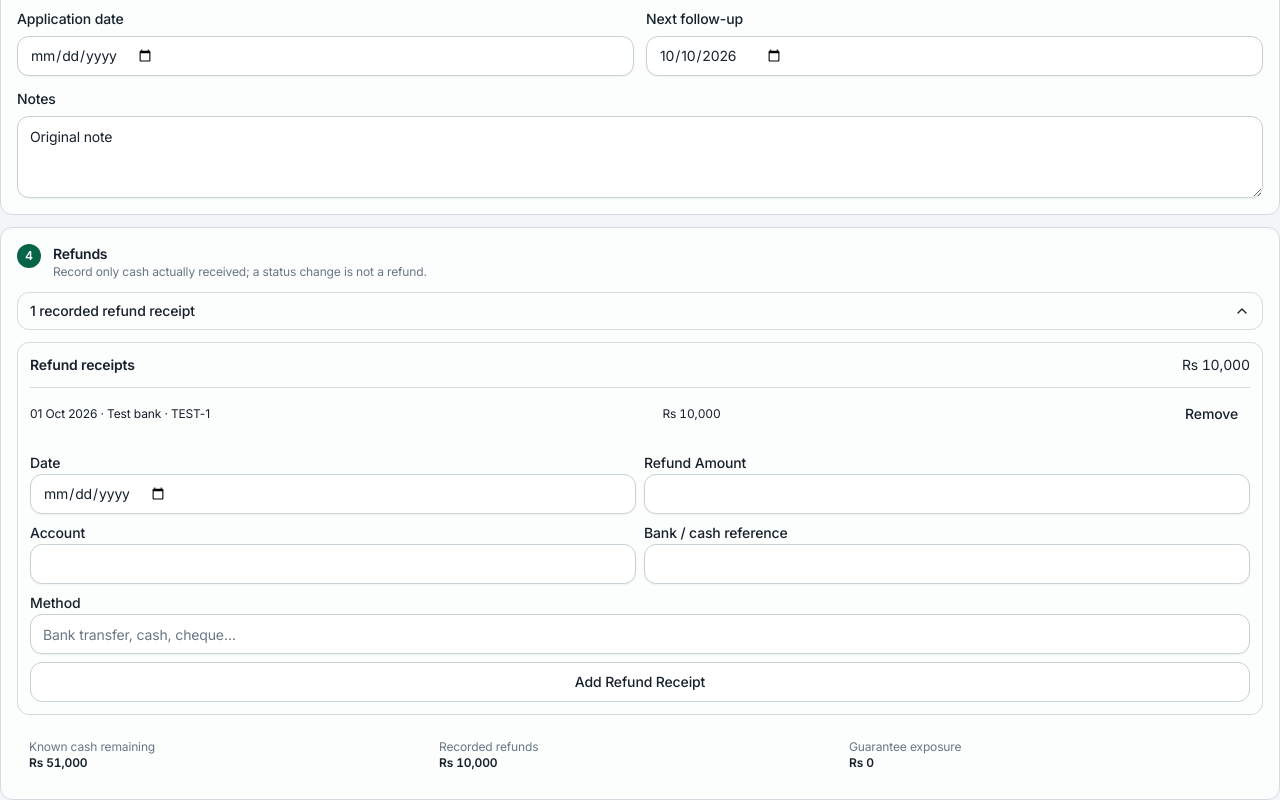
Test: pay order editor with disposable records › keeps populated edit fields available and only a receipt reduces remaining cash
(page scrolled)
Expected: the text box labelled "Notes" holds "Original note", [17,116,1263,198]
Expected: the text "1 recorded refund receipt" is shown, [30,301,195,321]
In the date field with id "refund-receipts-date": {"x": 333, "y": 494} [30,474,636,514], type "2026-10-02"
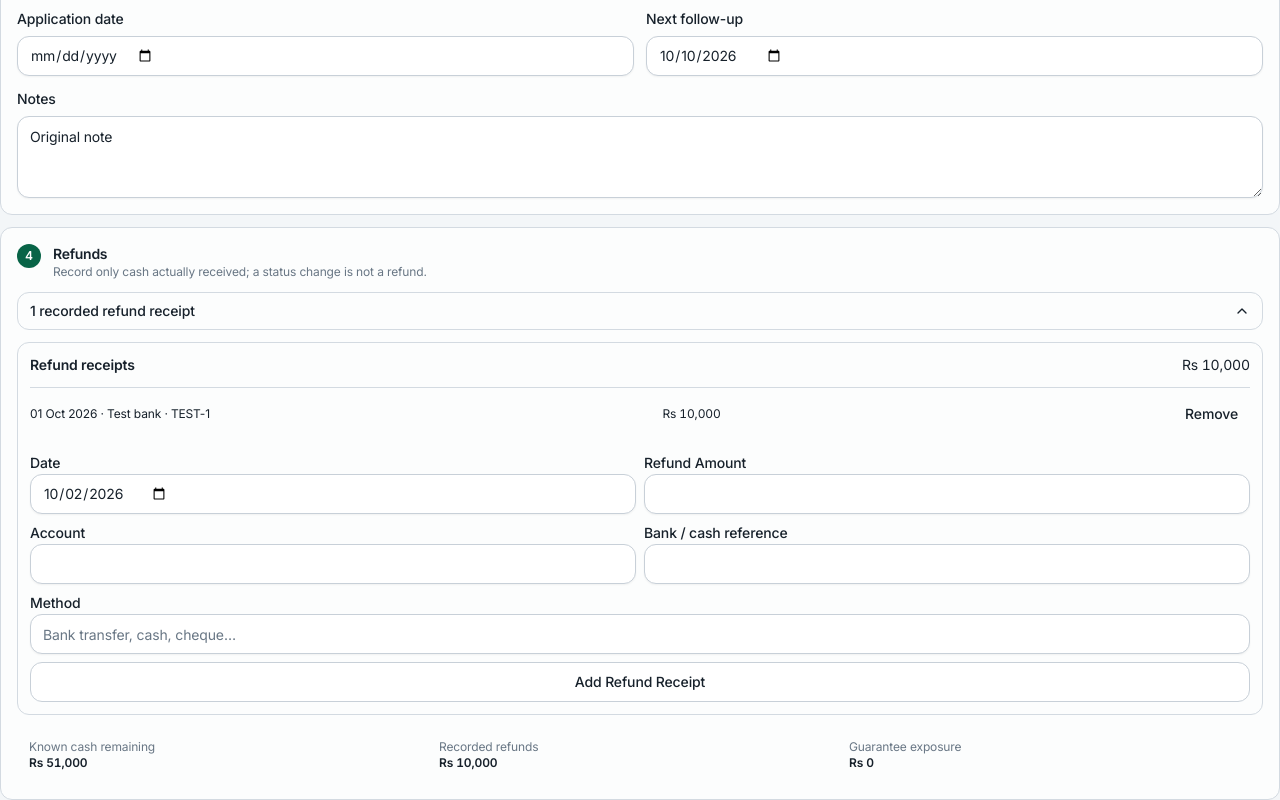
In the number field with id "refund-receipts-amount": {"x": 947, "y": 494} [644,474,1250,514], type "5000"
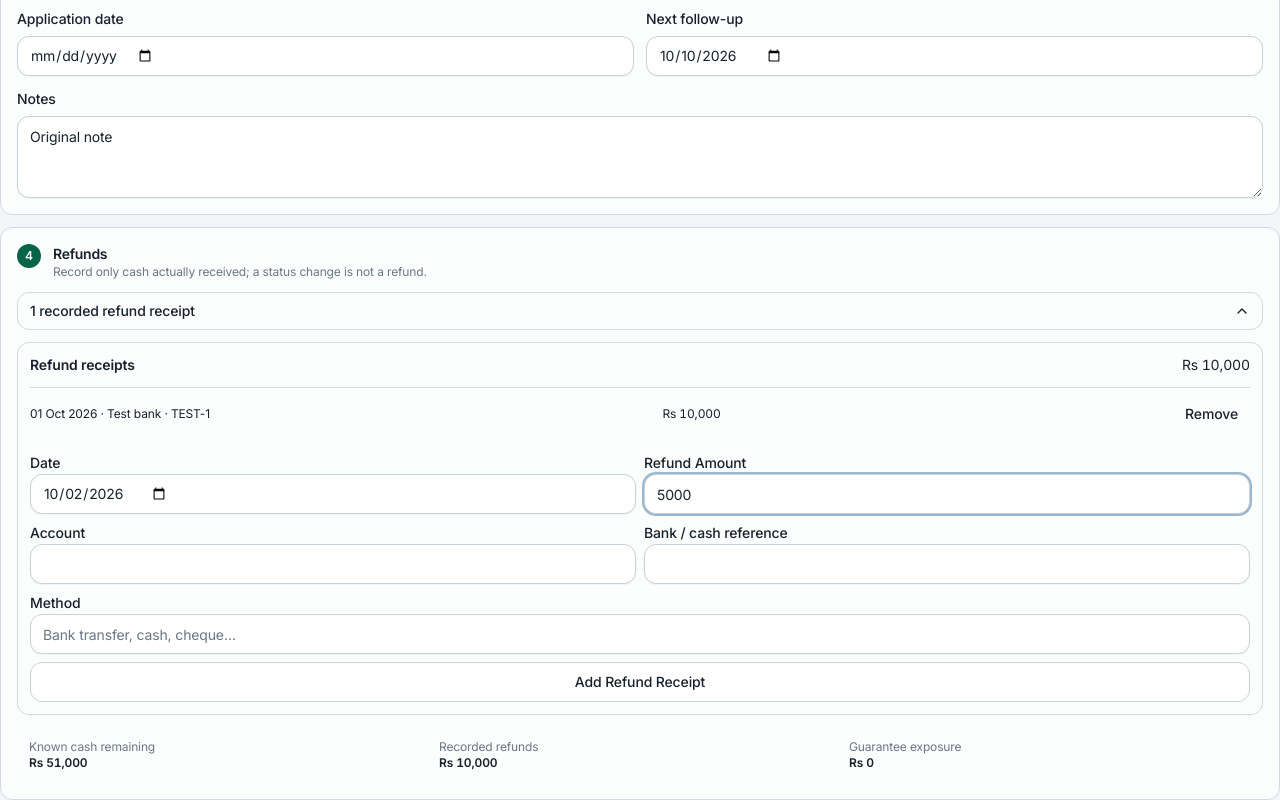
In the field with id "refund-receipts-account": {"x": 333, "y": 564} [30,544,636,584], type "Test bank"
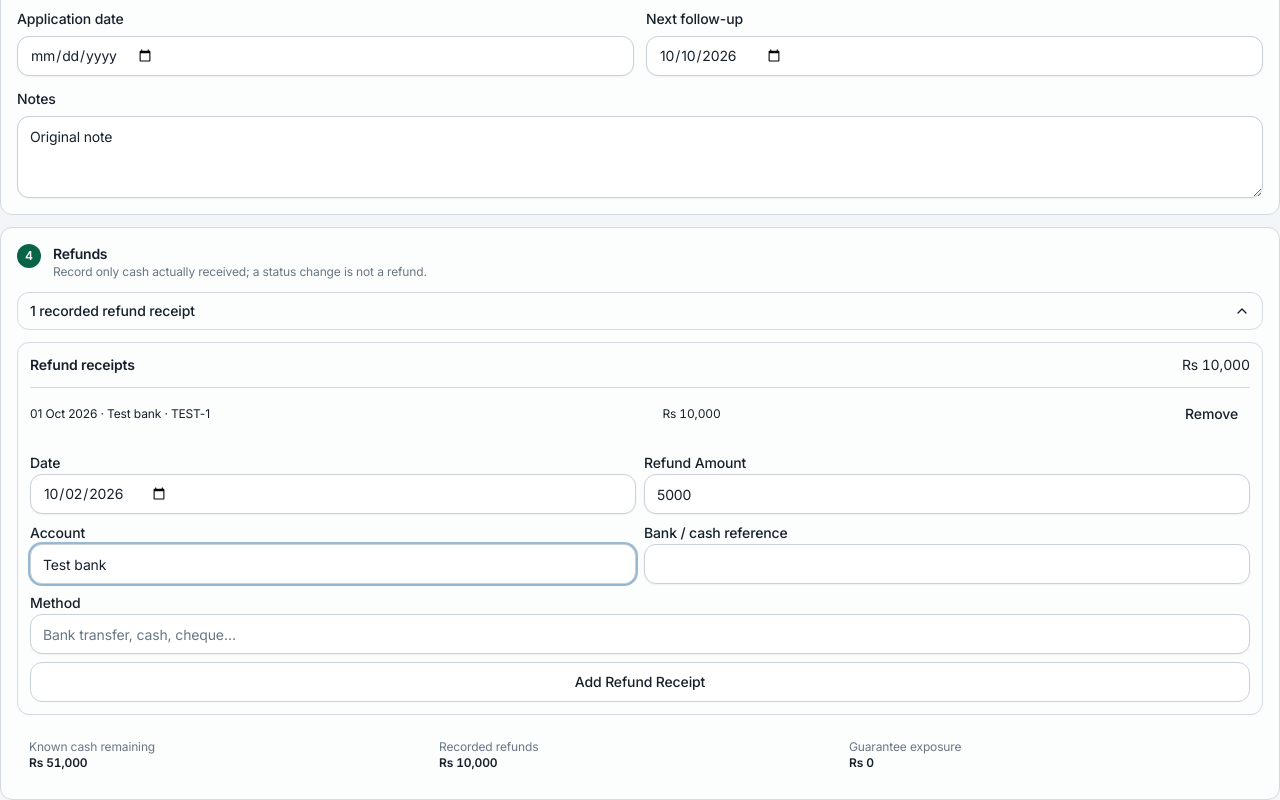
In the field with id "refund-receipts-reference": {"x": 947, "y": 564} [644,544,1250,584], type "TEST-2"
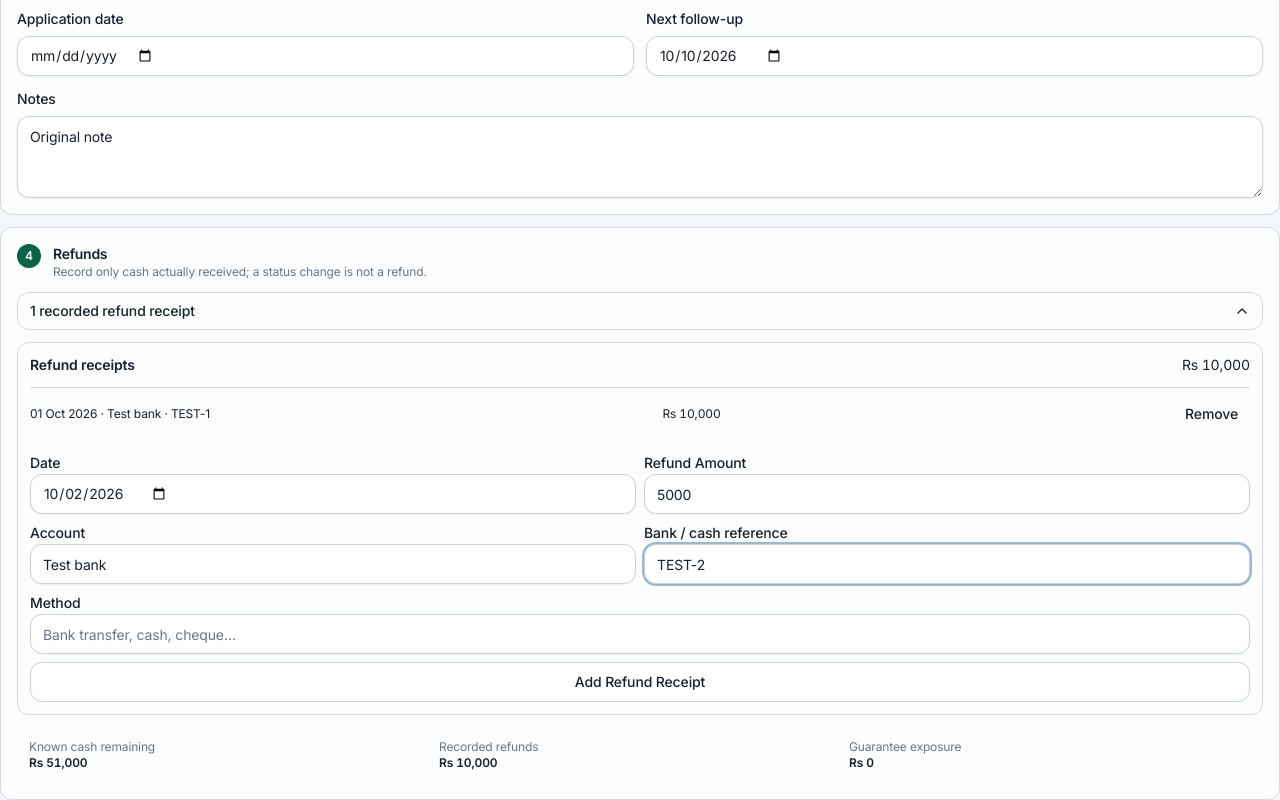
Click the button "Add Refund Receipt": {"x": 640, "y": 682} [30,662,1250,702]
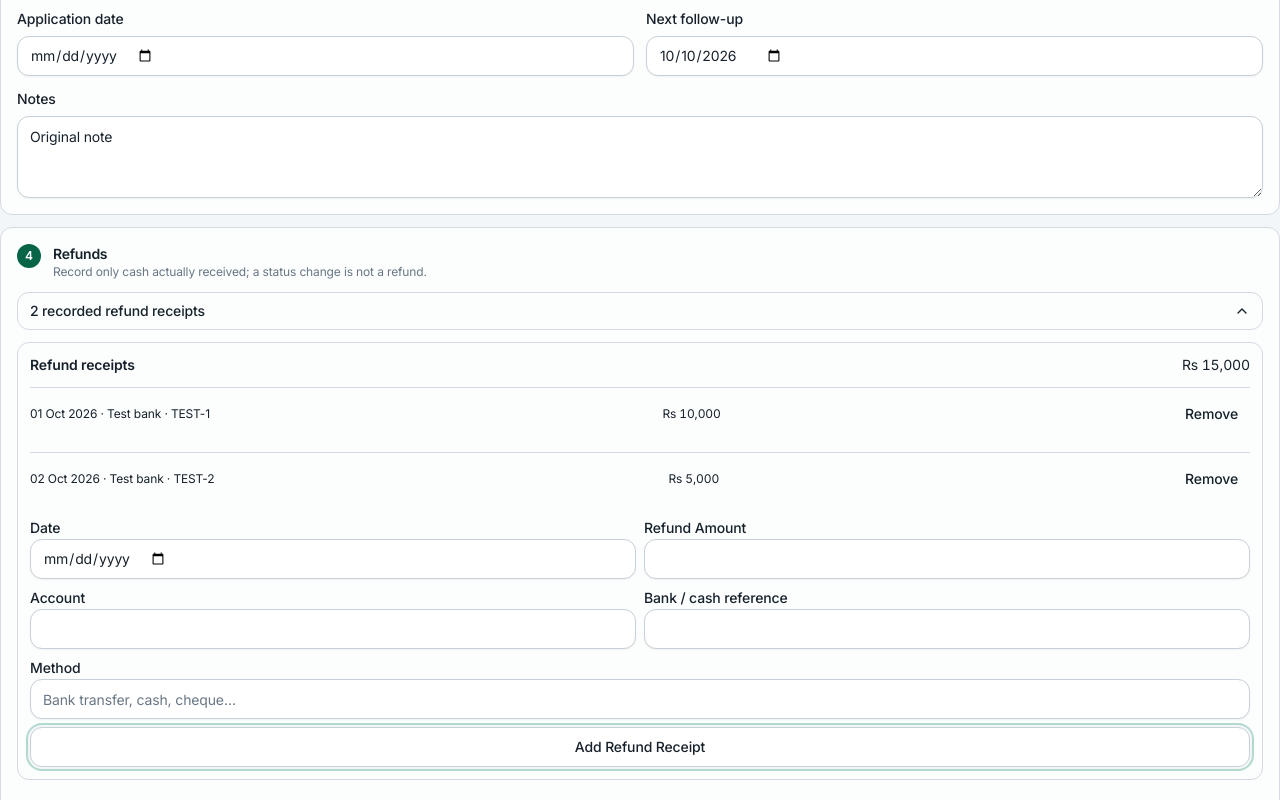
Click the button with aria-label "Remove transaction TEST-2": {"x": 1212, "y": 479} [1173,461,1250,497]
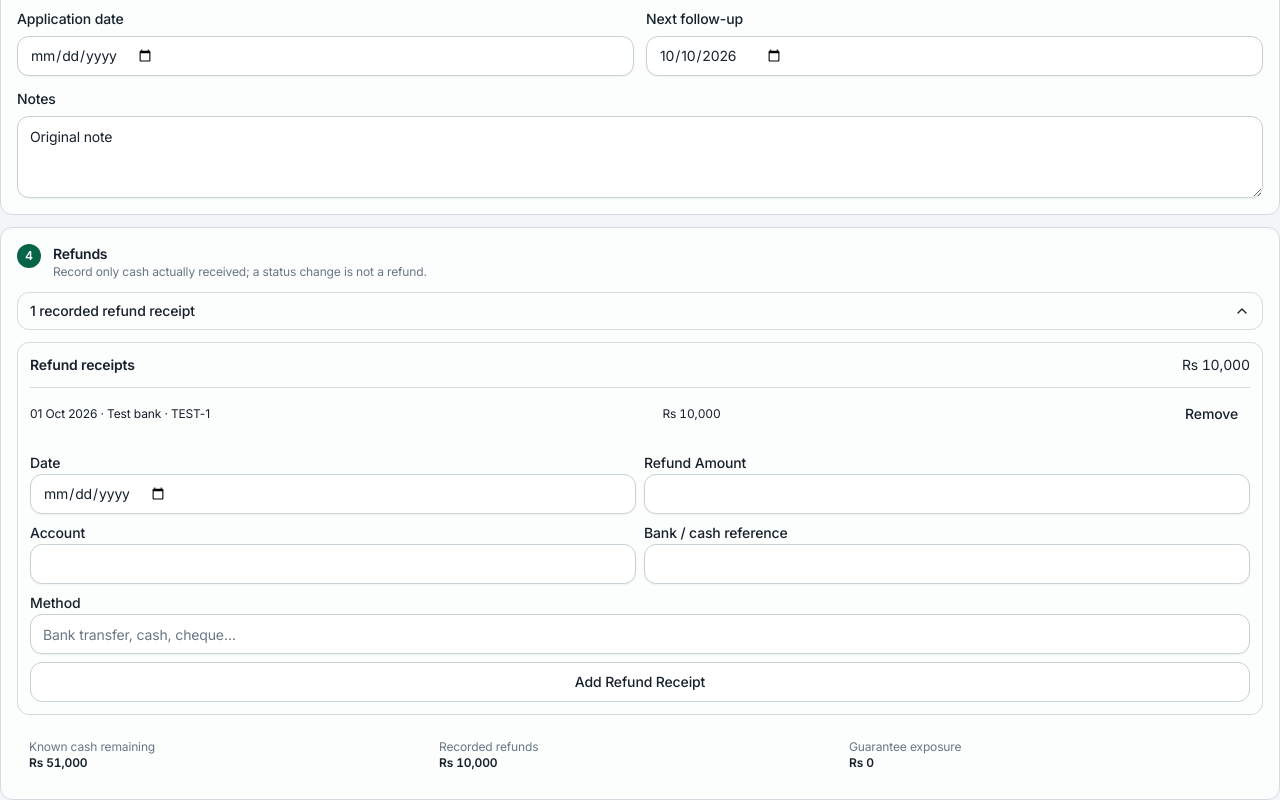
Expected: the text "Rs 51,000" is shown, [29,755,87,770]
